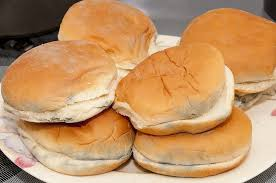mold_bread: (60, 143, 130, 167), (178, 94, 213, 118), (30, 146, 52, 163), (158, 152, 173, 172), (22, 104, 46, 115), (183, 157, 196, 174), (160, 118, 172, 131), (63, 95, 77, 103)
